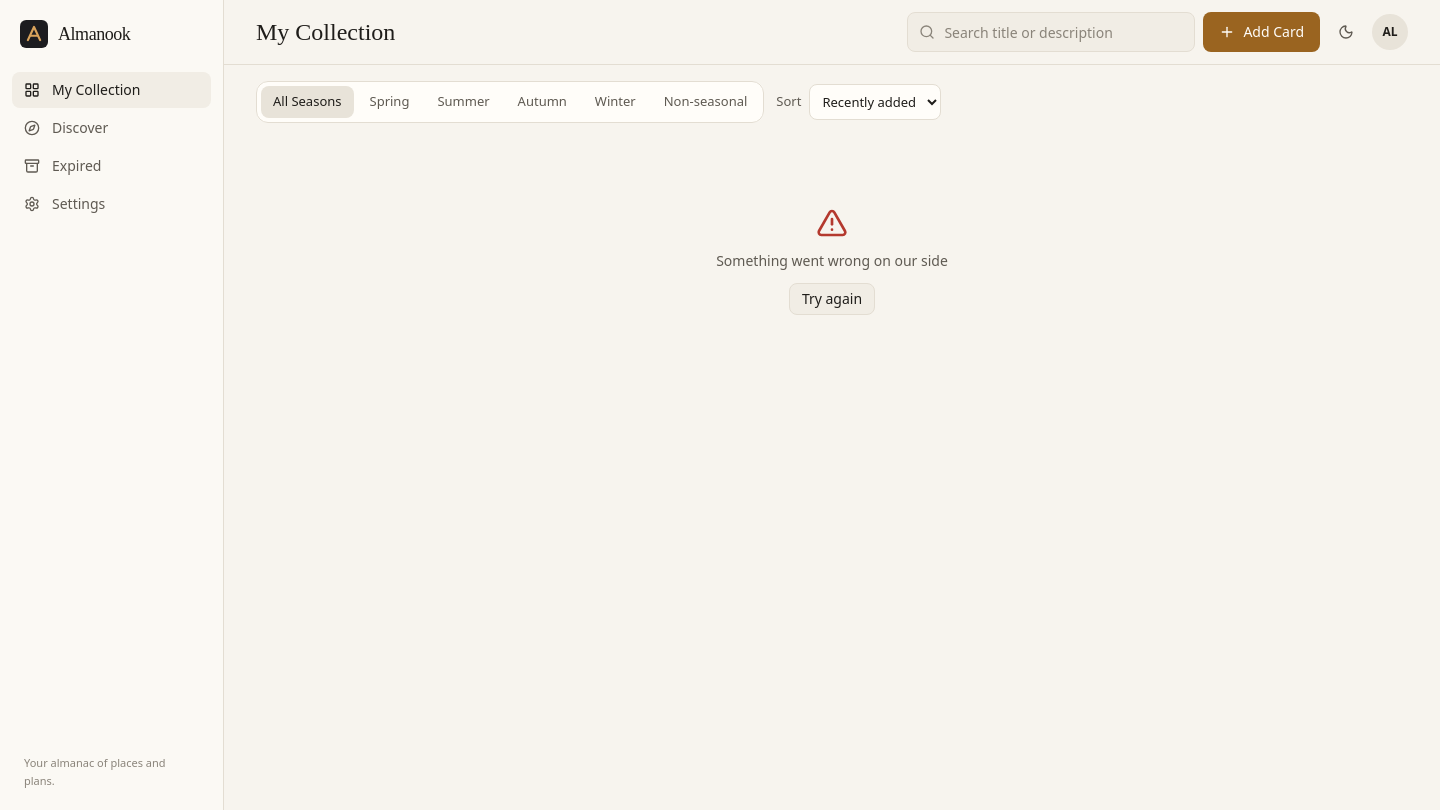
it: My Collection › shows an error state with retry when the API fails
This screenshot has width=1440, height=810.
Expected: the message shows "Something went wrong on our side", [716,250,948,270]
Click the button "Try again": x=832, y=298 [789,282,875,314]
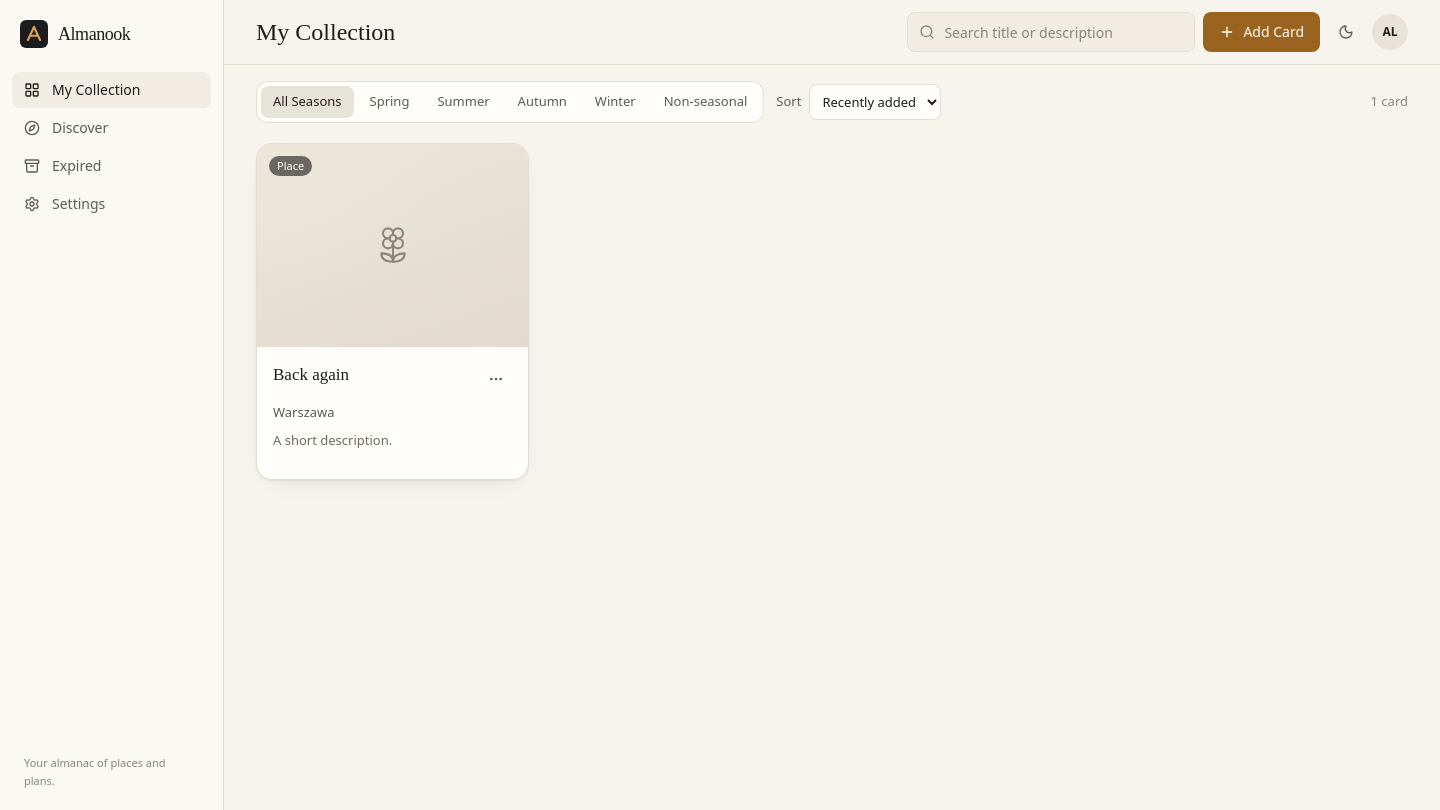
Expected: the element "Back again" is shown, [256,142,529,480]
